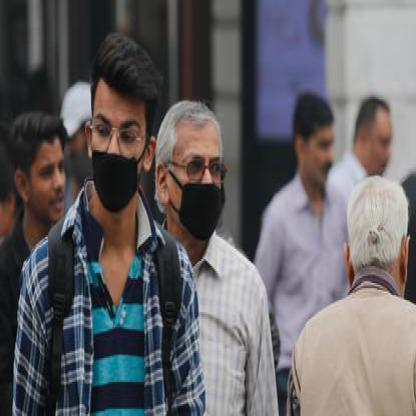Not_Wearing_Mask: (14, 112, 71, 226), (289, 94, 334, 186), (357, 86, 391, 178)
Wearing_Mask: (168, 108, 232, 252), (90, 63, 140, 215)
